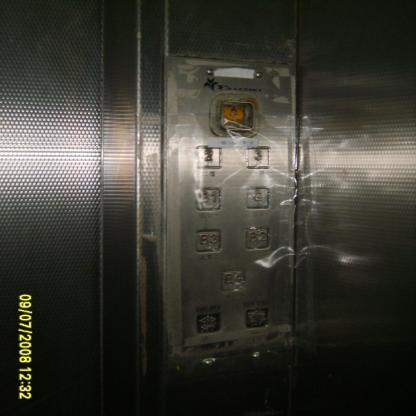2: (195, 145, 222, 169)
3: (245, 146, 270, 169)
B1: (194, 187, 222, 212)
B2: (244, 227, 270, 250)
B3: (194, 229, 222, 254)
B4: (220, 268, 246, 292)
G: (244, 186, 270, 210)
alarm: (219, 100, 255, 131)
close: (245, 307, 268, 329)
open: (195, 312, 221, 334)
